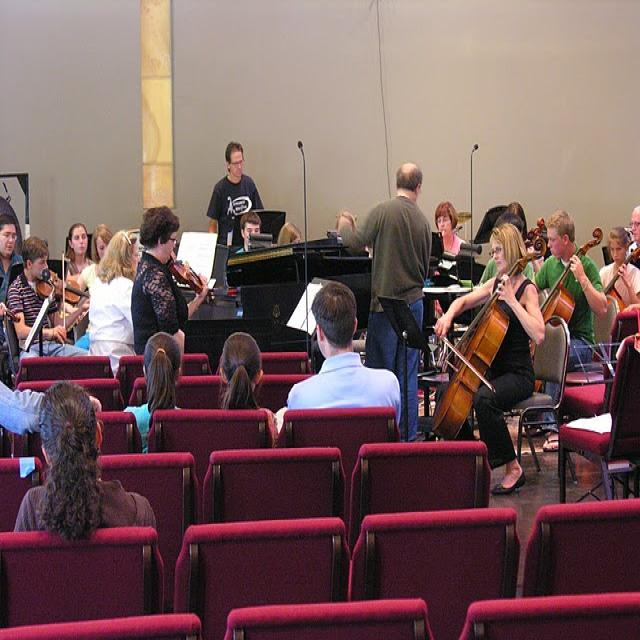cello: (428, 239, 550, 441), (524, 228, 604, 389)
violin: (168, 254, 214, 306), (35, 268, 96, 304)
